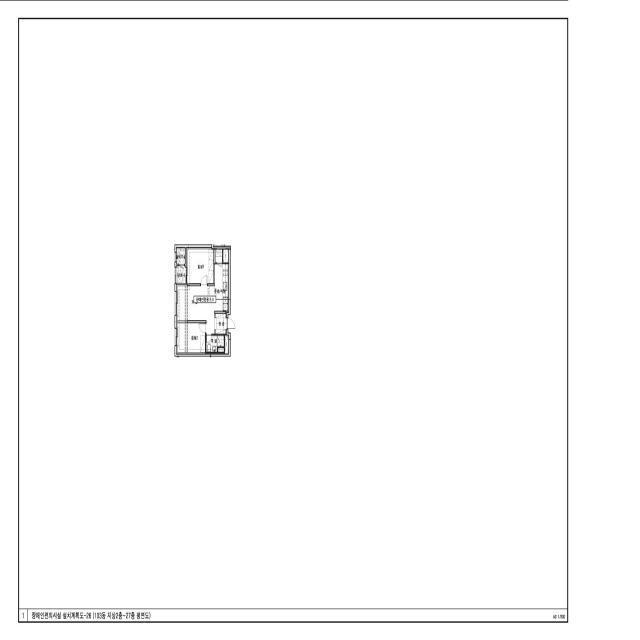space_balconi: (177, 266, 186, 283)
space_bedroom: (188, 249, 213, 283), (178, 323, 205, 352)
space_front: (215, 313, 226, 334)
space_kitchen: (207, 264, 229, 311)
space_living_room: (178, 286, 214, 334)
space_other: (215, 249, 222, 263), (223, 249, 229, 263), (225, 335, 229, 354), (218, 348, 224, 352)
space_outdoor_room: (177, 248, 185, 265)
space_toilet: (206, 336, 224, 352)
